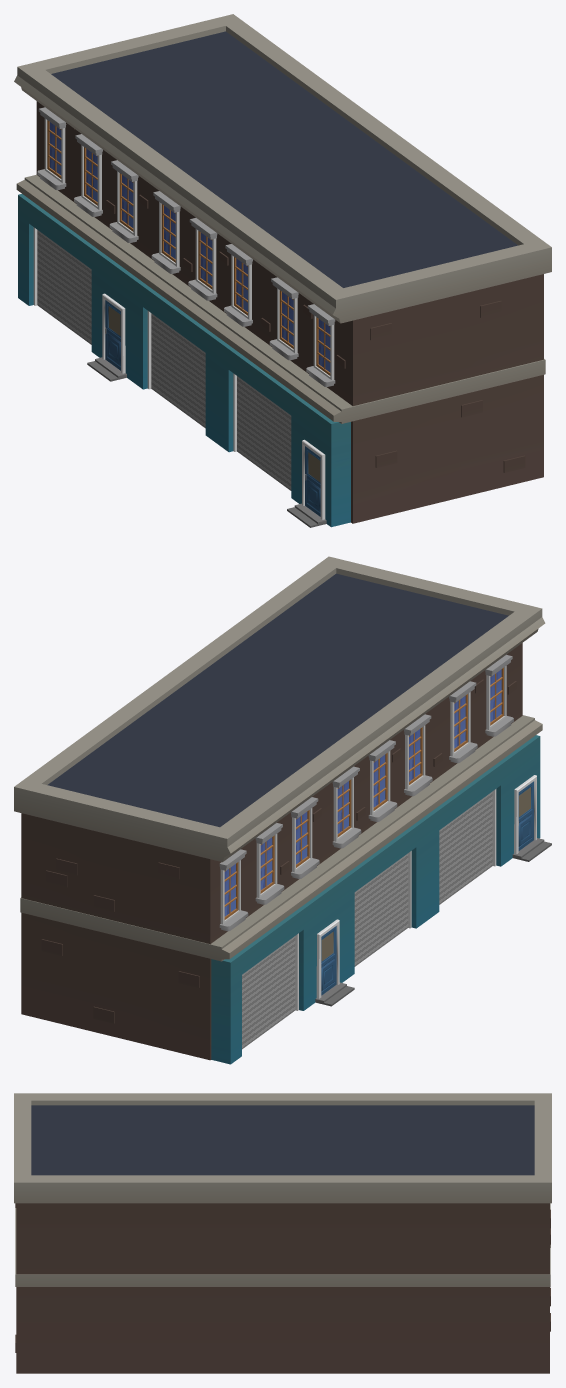
File: Building_20_3_E.glb
The picture shows the model from 3 angles, top to bottom: view 1: azimuth 30°, elevation 25°; view 2: azimuth 150°, elevation 25°; view 3: azimuth 270°, elevation 25°; orthographic projection. The views are drawn at different scales.
Parts seen in each view (by area): view 1: Building_20_3_E; view 2: Building_20_3_E; view 3: Building_20_3_E.
Part boxes in pixels (left/top/right/bottom): Building_20_3_E: left=14, top=14, right=551, bottom=527; Building_20_3_E: left=14, top=556, right=551, bottom=1064; Building_20_3_E: left=14, top=1093, right=551, bottom=1373.
Bounding box in the file's own units: 7.74 × 7.26 × 18.27.
4 materials, 4 textured.
